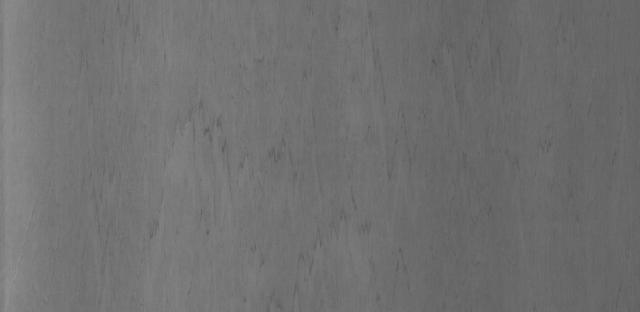silk_spot: (142, 28, 572, 299)
